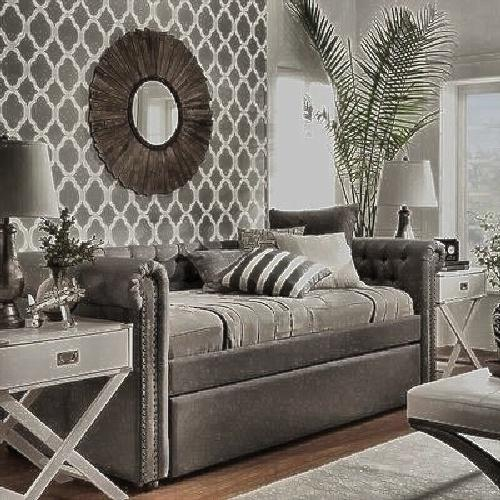sofa: (84, 237, 442, 438)
